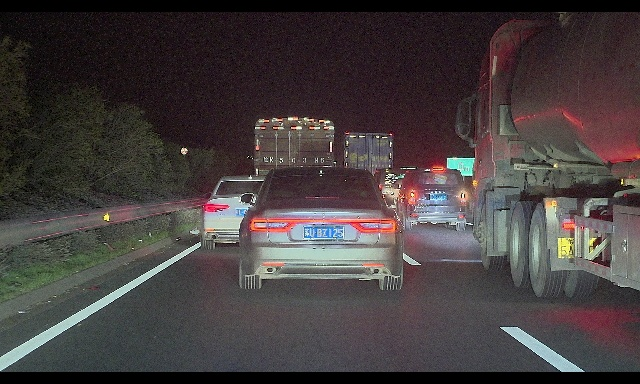car: (239, 166, 404, 291), (201, 175, 278, 250), (391, 167, 467, 232), (373, 168, 426, 218)
truck: (455, 12, 640, 303), (253, 117, 335, 222), (343, 131, 394, 200)
